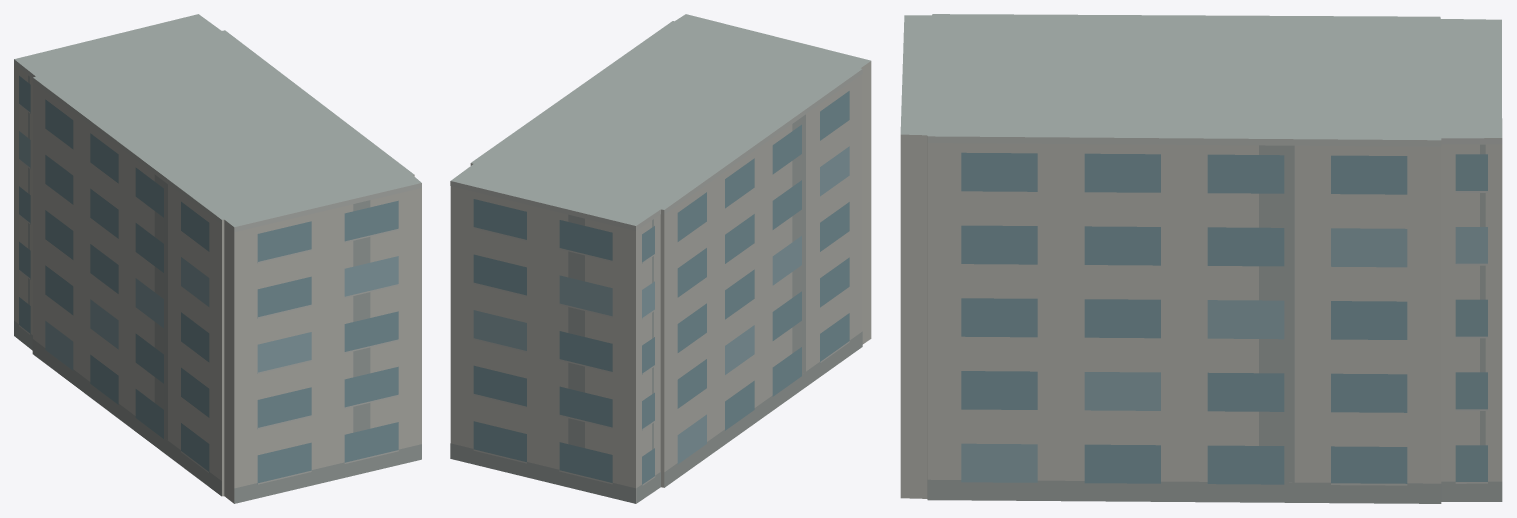
Rendered from survey-upis-32962829.glb.
3 renders of one model, left to right at view 1: azimuth 30°, elevation 25°; view 2: azimuth 150°, elevation 25°; view 3: azimuth 270°, elevation 25°, orthographic. The views are drawn at different scales.
Parts seen in each view (by area): view 1: survey-upis-32962829.tmp; view 2: survey-upis-32962829.tmp; view 3: survey-upis-32962829.tmp.
Part boxes in pixels (x1,y1,x2,y2): survey-upis-32962829.tmp: [14, 14, 421, 503]; survey-upis-32962829.tmp: [450, 14, 871, 503]; survey-upis-32962829.tmp: [900, 14, 1502, 503].
Bounding box in the file's own units: 10.06 × 13.5 × 20.26.
